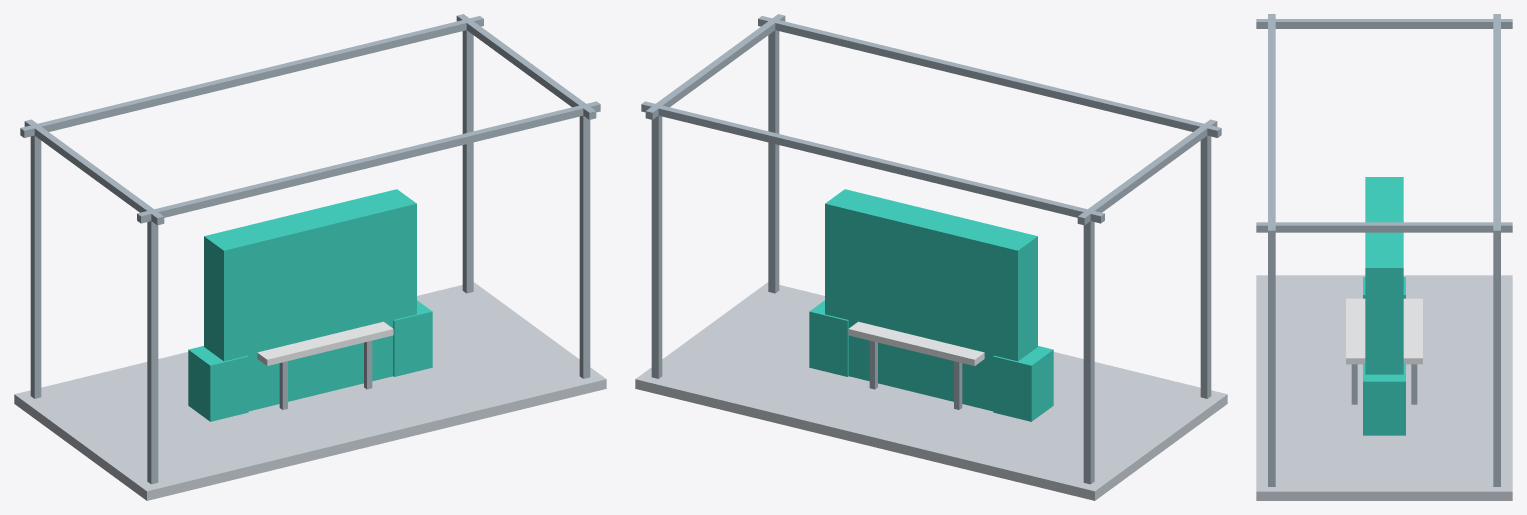
3 views of the same model, side by side, from view 1: azimuth 30°, elevation 25°; view 2: azimuth 150°, elevation 25°; view 3: azimuth 270°, elevation 25° (orthographic). The views are drawn at different scales.
Visible parts, largest first — view 1: Exhibition Booth Concept; view 2: Exhibition Booth Concept; view 3: Exhibition Booth Concept.
Part boxes in pixels (x1=…): Exhibition Booth Concept: x1=14, y1=14, x2=606, y2=500; Exhibition Booth Concept: x1=635, y1=14, x2=1227, y2=500; Exhibition Booth Concept: x1=1256, y1=14, x2=1512, y2=500.
Size of the model in its own units: 6 by 3.49 by 3.
